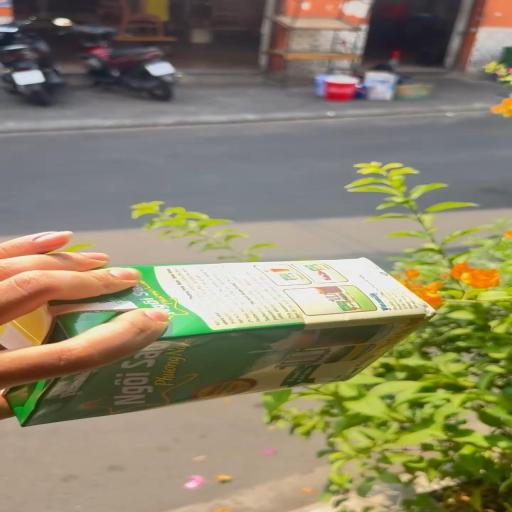ly_giay: (0, 258, 434, 426)
